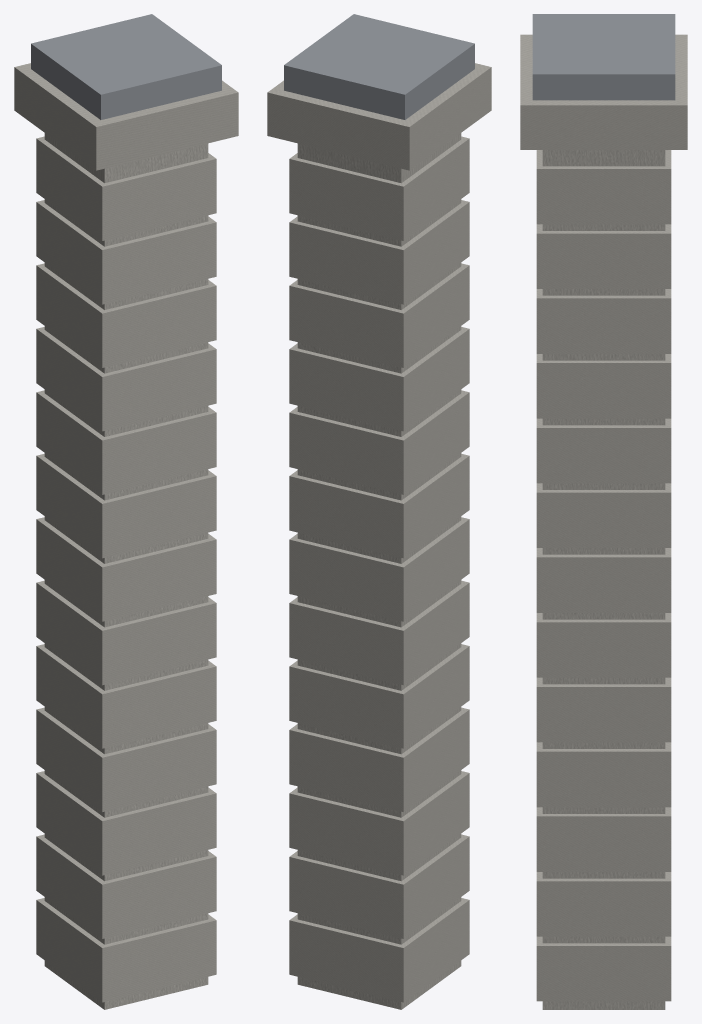
Rendered from distillery-and-bonded-warehouse-corner-pillar-88348036.glb.
The picture shows the model from 3 angles, left to right: view 1: azimuth 30°, elevation 25°; view 2: azimuth 150°, elevation 25°; view 3: azimuth 270°, elevation 25°; orthographic projection. The views are drawn at different scales.
Parts seen in each view (by area): view 1: corner-pillar-stone, corner-pillar-slate; view 2: corner-pillar-stone, corner-pillar-slate; view 3: corner-pillar-stone, corner-pillar-slate.
Part boxes in pixels (x1,y1,x2,y2): corner-pillar-stone: (14,63,238,1009); corner-pillar-slate: (31,14,221,119); corner-pillar-stone: (267,63,491,1009); corner-pillar-slate: (284,14,474,119); corner-pillar-stone: (520,34,687,1009); corner-pillar-slate: (532,14,675,100).
Size of the model in its own units: 0.8201 by 5.08 by 0.8201.
Materials: 2 (1 with a texture image).
